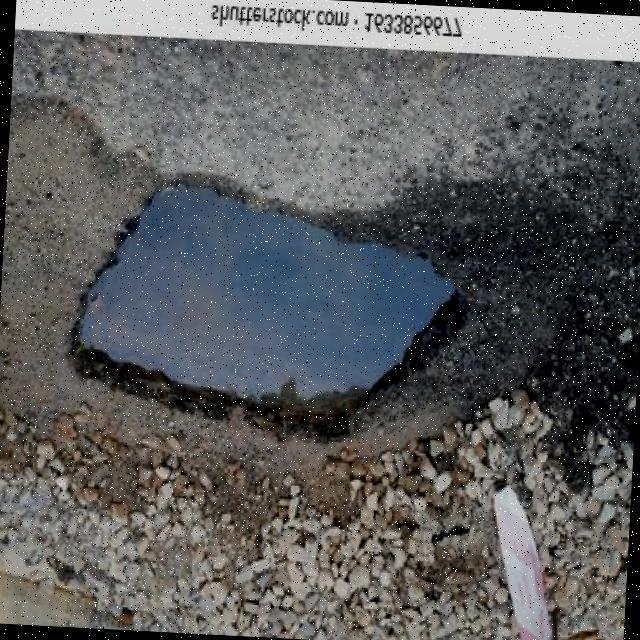Pothole: (70, 181, 465, 447)
